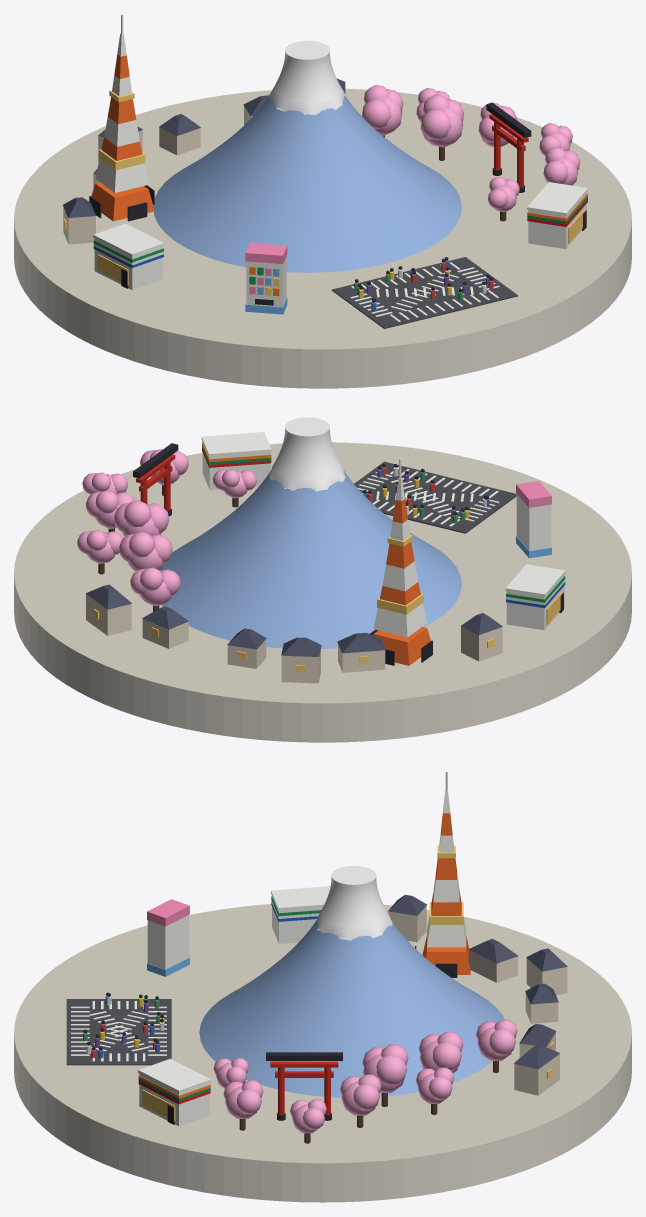
The model's file is tokyo.glb.
3 renders of one model, top to bottom at view 1: azimuth 30°, elevation 25°; view 2: azimuth 150°, elevation 25°; view 3: azimuth 270°, elevation 25°, orthographic.
Visible parts, largest first — view 1: DECO-base, OBJ-mt-fuji, DECO-sakura, crossing-road, fuji-snow, DECO-houses, crossing-stripes, tower-0.0, 7-eleven-roof, familymart-roof, familymart-body, vend-body (+8 smaller); view 2: DECO-base, OBJ-mt-fuji, DECO-houses, DECO-sakura, crossing-road, fuji-snow, crossing-stripes, vend-body, 7-eleven-roof, familymart-roof, familymart-body, tower-0.0 (+9 smaller); view 3: DECO-base, OBJ-mt-fuji, DECO-sakura, DECO-houses, crossing-road, fuji-snow, crossing-stripes, vend-body, 7-eleven-roof, 7-eleven-body, crossing-people, familymart-roof (+6 smaller).
Boxes of the visible parts, bbox=[...] form: DECO-base: bbox=[14, 88, 631, 388]; OBJ-mt-fuji: bbox=[153, 96, 461, 272]; DECO-sakura: bbox=[362, 85, 580, 221]; crossing-road: bbox=[331, 257, 517, 328]; fuji-snow: bbox=[269, 40, 345, 114]; DECO-houses: bbox=[63, 78, 345, 244]; crossing-stripes: bbox=[350, 262, 499, 321]; tower-0.0: bbox=[91, 182, 154, 221]; 7-eleven-roof: bbox=[527, 182, 588, 215]; familymart-roof: bbox=[93, 223, 164, 256]; familymart-body: bbox=[94, 238, 162, 290]; vend-body: bbox=[246, 256, 286, 307]; DECO-base: bbox=[14, 442, 631, 742]; OBJ-mt-fuji: bbox=[159, 471, 461, 648]; DECO-houses: bbox=[86, 584, 502, 683]; DECO-sakura: bbox=[77, 449, 256, 611]; crossing-road: bbox=[354, 461, 516, 533]; fuji-snow: bbox=[269, 417, 345, 491]; crossing-stripes: bbox=[357, 467, 499, 526]; vend-body: bbox=[516, 494, 551, 550]; 7-eleven-roof: bbox=[201, 432, 271, 456]; familymart-roof: bbox=[505, 564, 565, 596]; familymart-body: bbox=[506, 575, 564, 630]; tower-0.0: bbox=[373, 626, 430, 665]; DECO-base: bbox=[14, 904, 631, 1202]; OBJ-mt-fuji: bbox=[199, 920, 504, 1097]; DECO-sakura: bbox=[213, 1019, 517, 1143]; DECO-houses: bbox=[388, 895, 567, 1095]; crossing-road: bbox=[66, 999, 171, 1065]; fuji-snow: bbox=[317, 866, 392, 940]; crossing-stripes: bbox=[71, 1001, 166, 1061]; vend-body: bbox=[147, 915, 189, 969]; 7-eleven-roof: bbox=[138, 1058, 211, 1093]; 7-eleven-body: bbox=[139, 1073, 209, 1126]; crossing-people: bbox=[83, 992, 164, 1058]; familymart-roof: bbox=[271, 886, 330, 910].
Size of the model in its own units: 2 by 0.8288 by 2.
